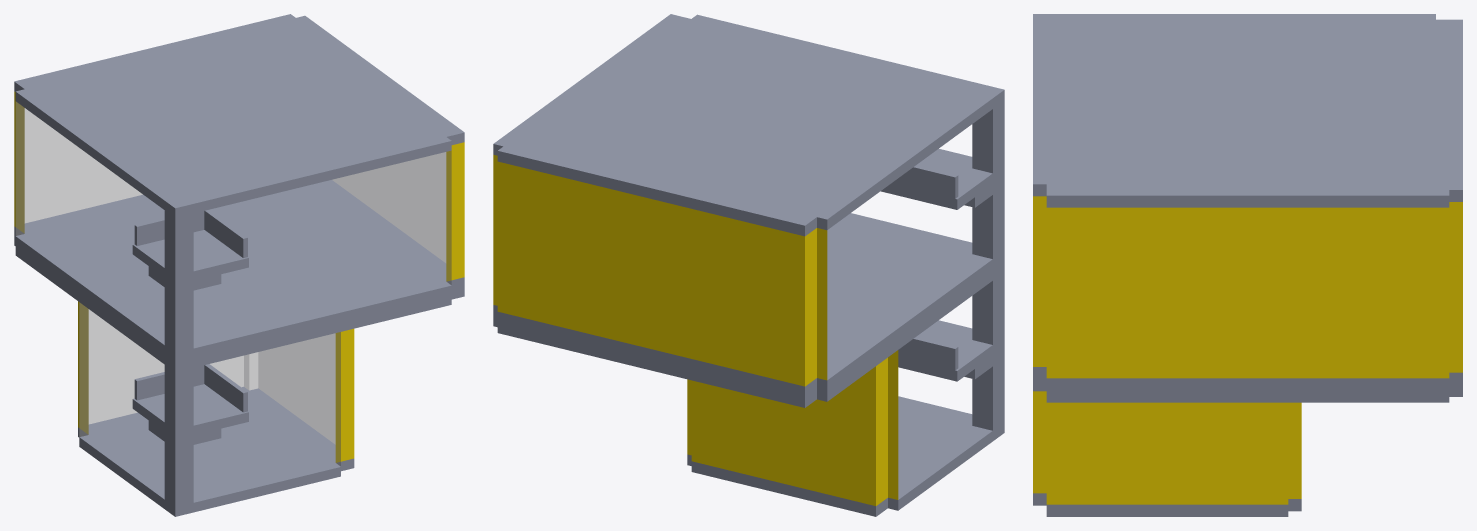
The model's file is bldg_0002_outercorner_v01.gltf.
3 renders of one model, left to right at view 1: azimuth 30°, elevation 25°; view 2: azimuth 150°, elevation 25°; view 3: azimuth 270°, elevation 25°, orthographic. The views are drawn at different scales.
Parts seen in each view (by area): view 1: massing, window top, window bottom; view 2: massing, window top, window bottom; view 3: massing, window top, window bottom.
Part boxes in pixels (bbox=[...]): massing: bbox=[14, 14, 464, 516]; window top: bbox=[14, 91, 464, 284]; window bottom: bbox=[78, 301, 354, 466]; massing: bbox=[493, 14, 1004, 516]; window top: bbox=[493, 154, 827, 386]; window bottom: bbox=[687, 350, 898, 505]; massing: bbox=[1033, 14, 1462, 516]; window top: bbox=[1033, 196, 1462, 378]; window bottom: bbox=[1033, 391, 1301, 504].
Size of what is drawn, in the model's own units: 16 by 16 by 16.
